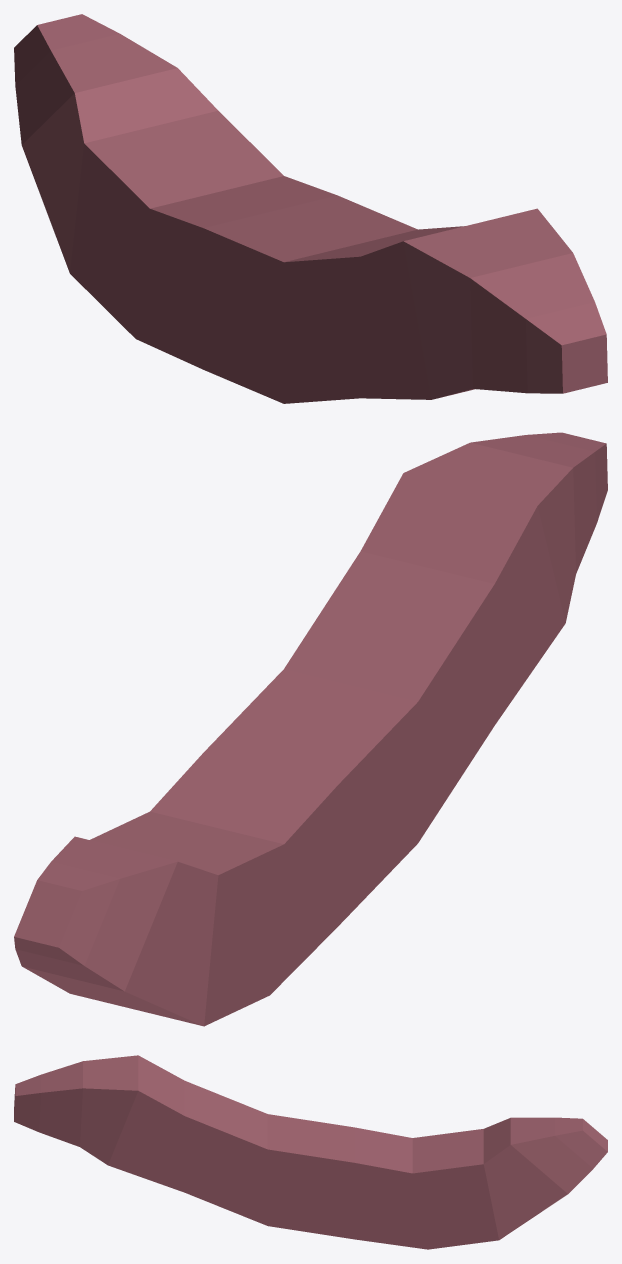
File: worm.fbx
3 views of the same model, one above another, from view 1: azimuth 30°, elevation 25°; view 2: azimuth 150°, elevation 25°; view 3: azimuth 270°, elevation 25° (orthographic). The views are drawn at different scales.
Visible parts, largest first — view 1: worm; view 2: worm; view 3: worm.
Part boxes in pixels (x1,y1,x2,y2): worm: [14, 14, 607, 403]; worm: [14, 432, 607, 1026]; worm: [14, 1055, 607, 1249].
Bounding box in the file's own units: 0.1395 × 0.2916 × 0.9881.
